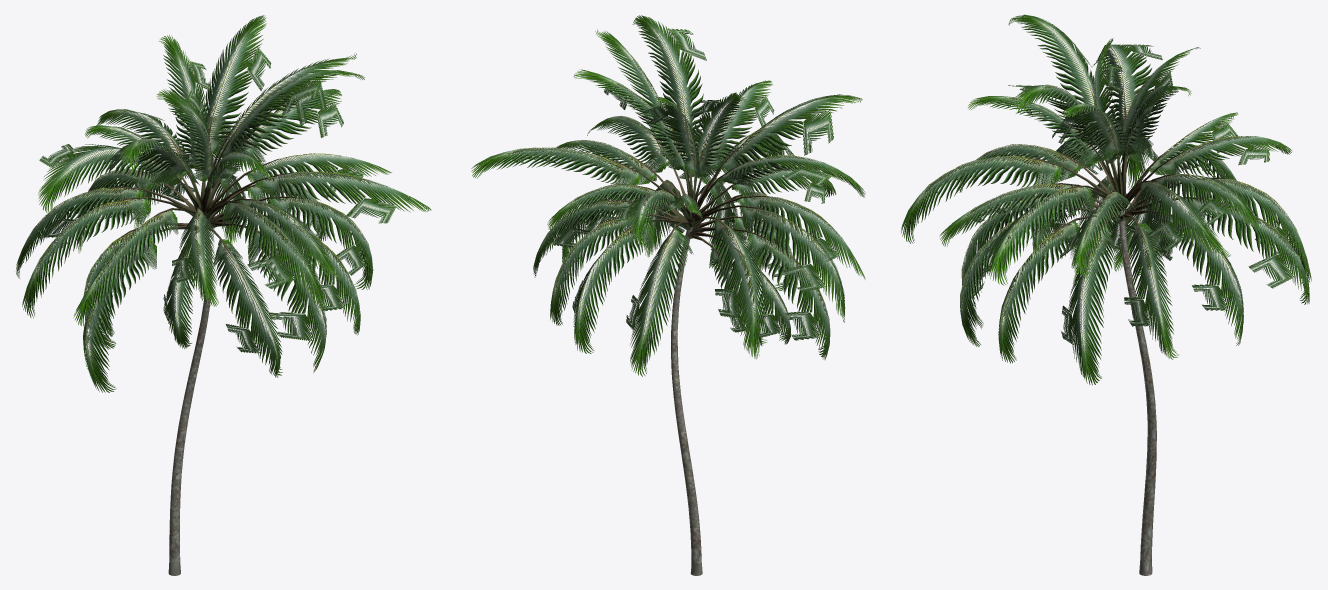
File: palm-a.glb
3 renders of one model, left to right at view 1: azimuth 30°, elevation 25°; view 2: azimuth 150°, elevation 25°; view 3: azimuth 270°, elevation 25°, orthographic. The views are drawn at different scales.
Visible parts, largest first — view 1: palm-a; view 2: palm-a; view 3: palm-a.
Boxes of the visible parts, x1,y1,x2,y2 form: palm-a: [16, 15, 431, 575]; palm-a: [471, 15, 865, 575]; palm-a: [901, 14, 1311, 575].
Size of the model in its own units: 3.74 by 5.01 by 3.5.
2 materials, 2 textured.
